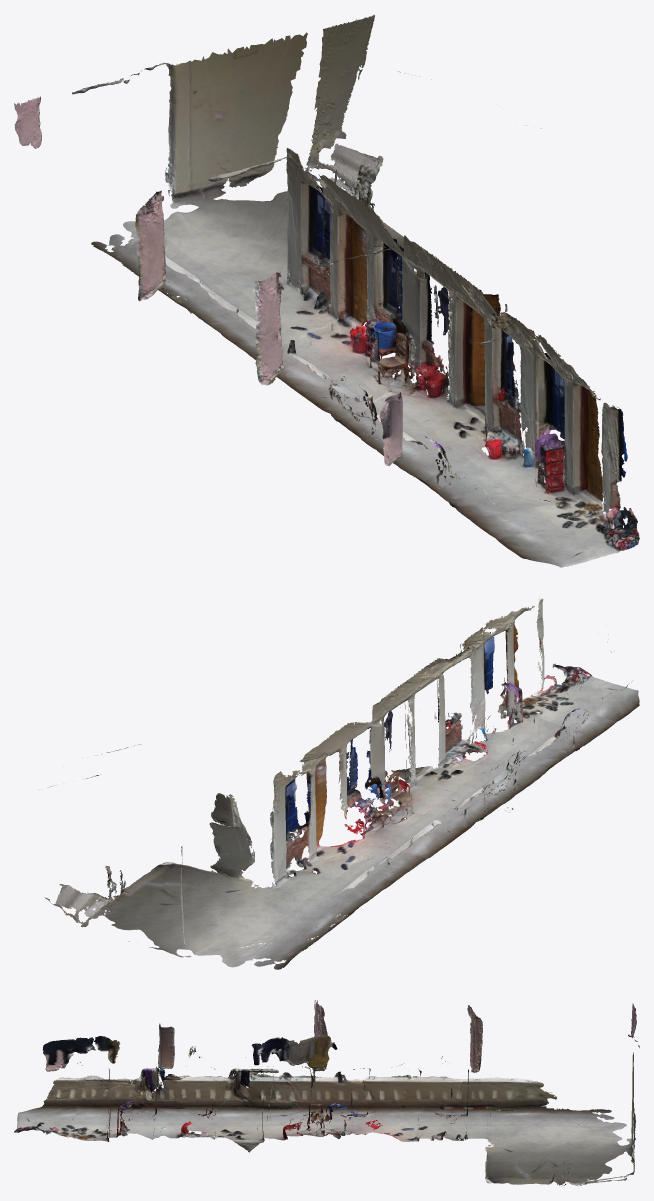
The picture shows the model from 3 angles, top to bottom: view 1: azimuth 30°, elevation 25°; view 2: azimuth 150°, elevation 25°; view 3: azimuth 270°, elevation 25°; orthographic projection. The views are drawn at different scales.
Parts seen in each view (by area): view 1: Scan G.001; view 2: Scan G.001; view 3: Scan G.001.
Boxes of the visible parts, x1=… form: Scan G.001: x1=14, y1=14, x2=639, y2=567; Scan G.001: x1=45, y1=598, x2=639, y2=969; Scan G.001: x1=14, y1=1000, x2=639, y2=1186.
Bounding box in the file's own units: 8.4 × 2.78 × 16.51.
Materials: 1 (1 with a texture image).
